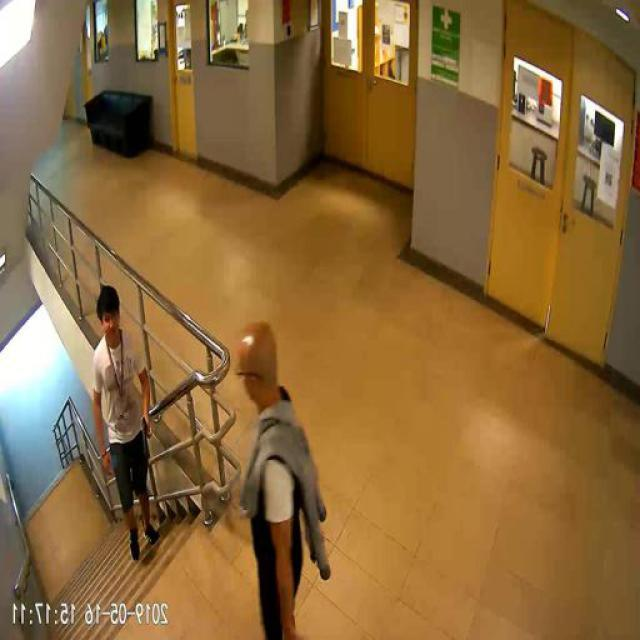weapon: (139, 417, 153, 462)
